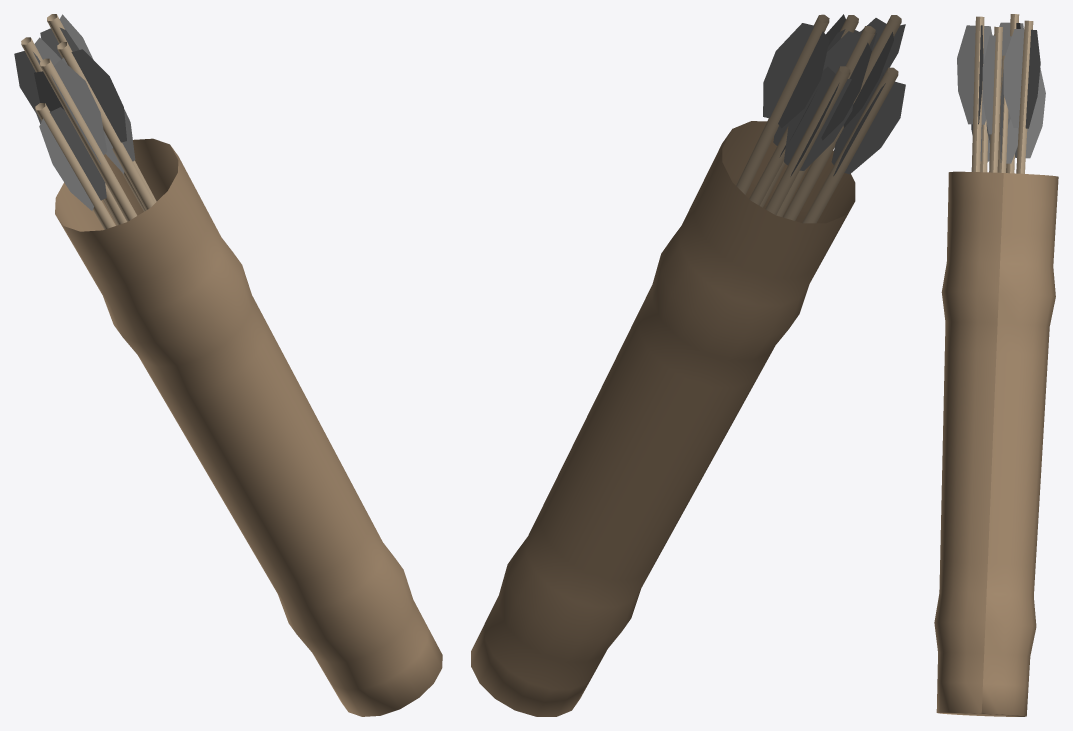
File: Quiver.glb
3 renders of one model, left to right at view 1: azimuth 30°, elevation 25°; view 2: azimuth 150°, elevation 25°; view 3: azimuth 270°, elevation 25°, orthographic. The views are drawn at different scales.
Visible parts, largest first — view 1: Quiver; view 2: Quiver; view 3: Quiver.
Boxes of the visible parts, <box> form: Quiver: <box>14,14,442,716</box>; Quiver: <box>471,14,905,716</box>; Quiver: <box>934,14,1058,716</box>.
Bounding box in the file's own units: 0.3357 × 0.5953 × 0.1131.
